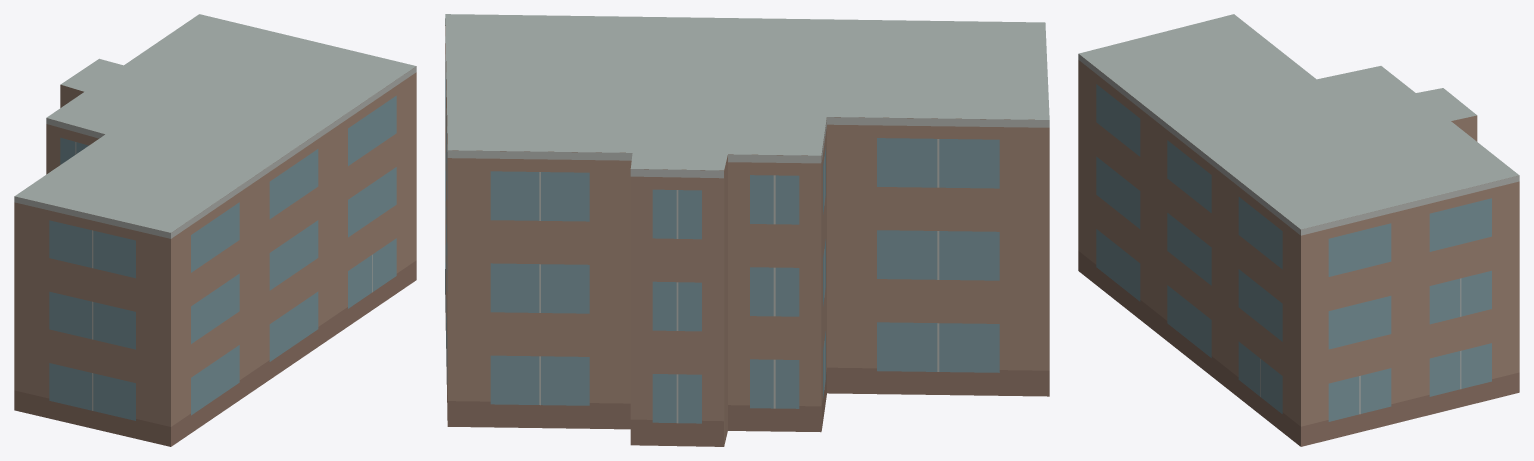
Rendered from survey-upis-32488852.glb.
The picture shows the model from 3 angles, left to right: view 1: azimuth 30°, elevation 25°; view 2: azimuth 150°, elevation 25°; view 3: azimuth 270°, elevation 25°; orthographic projection. The views are drawn at different scales.
Visible parts, largest first — view 1: survey-upis-32488852.tmp; view 2: survey-upis-32488852.tmp; view 3: survey-upis-32488852.tmp.
Part boxes in pixels (x1,y1,x2,y2): survey-upis-32488852.tmp: (14, 14, 416, 446); survey-upis-32488852.tmp: (445, 14, 1049, 446); survey-upis-32488852.tmp: (1078, 14, 1519, 446).
Bounding box in the file's own units: 18.41 × 8.65 × 15.92.
